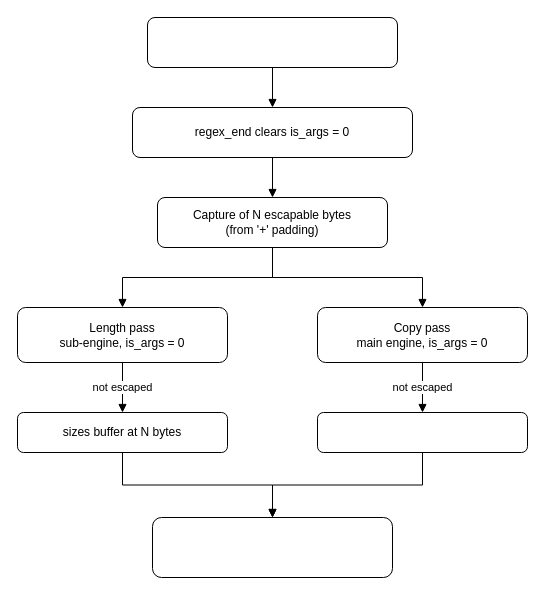
This 545x595 diagram has some shape labels left out. The shapes that lost their labels are listed below. From the top down, each one's centre as x and y in pixels, then its label:
the point at 272,42: Rewrite replacement contains '?' sets is_args = 1
the point at 422,432: writes N bytes
the point at 272,547: Sizes agree N bytes into an N-byte buffer
